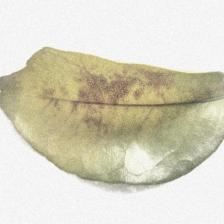black spot: (87, 76, 124, 104)
